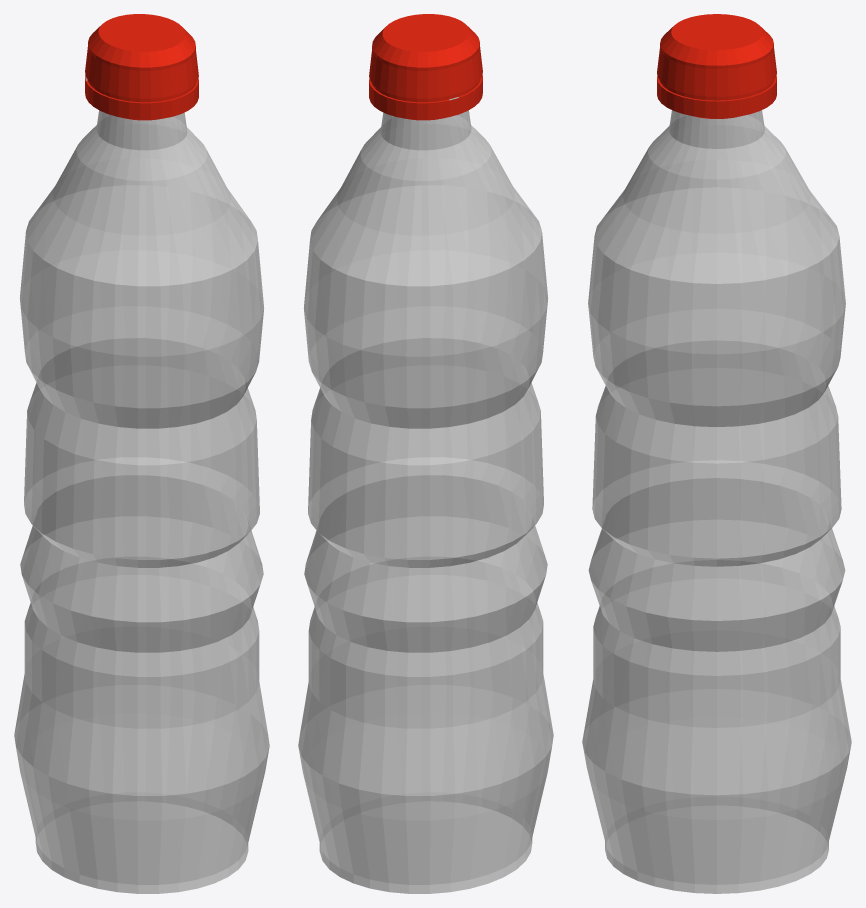
File: PlasticBottlefbx.fbx
3 views of the same model, side by side, from view 1: azimuth 30°, elevation 25°; view 2: azimuth 150°, elevation 25°; view 3: azimuth 270°, elevation 25° (orthographic).
Parts seen in each view (by area): view 1: Cylinder; view 2: Cylinder; view 3: Cylinder.
Part boxes in pixels (x1,y1,x2,y2): Cylinder: [14, 14, 269, 893]; Cylinder: [298, 14, 553, 893]; Cylinder: [582, 14, 851, 893].
Bounding box in the file's own units: 121 × 433 × 130.
